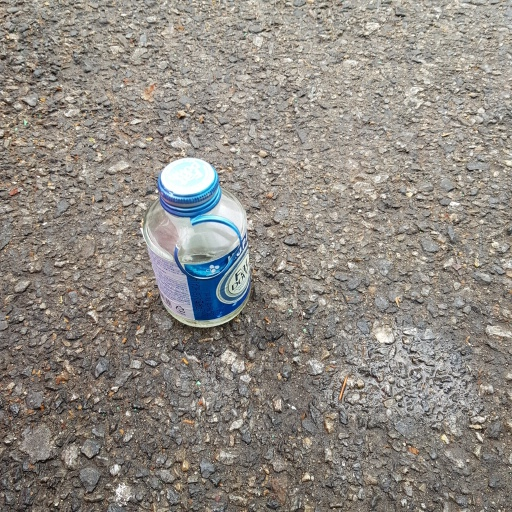Glass_4: (133, 147, 256, 335)
